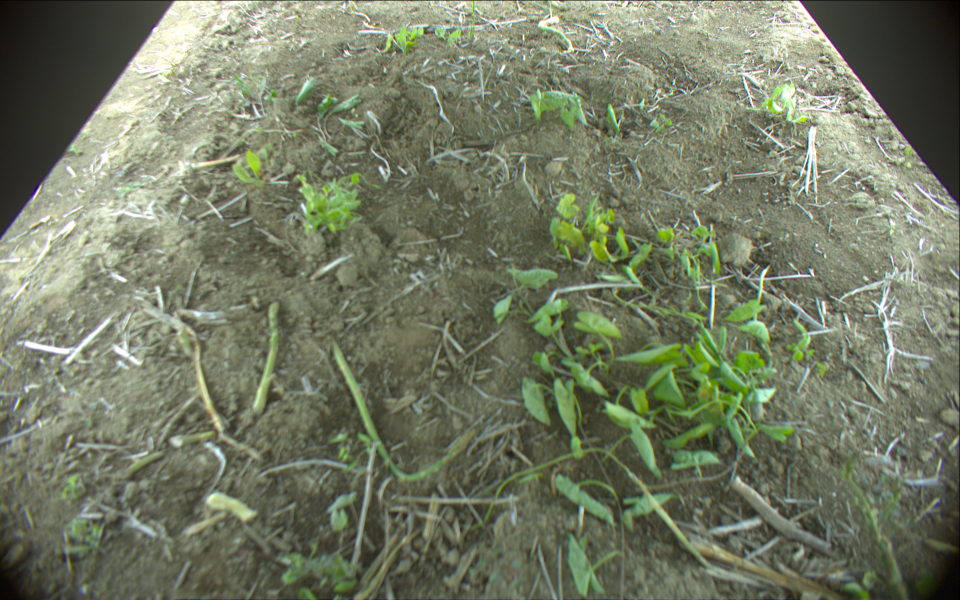aspa: (330, 346, 485, 482), (186, 329, 226, 432), (254, 300, 281, 411), (533, 15, 576, 51)
